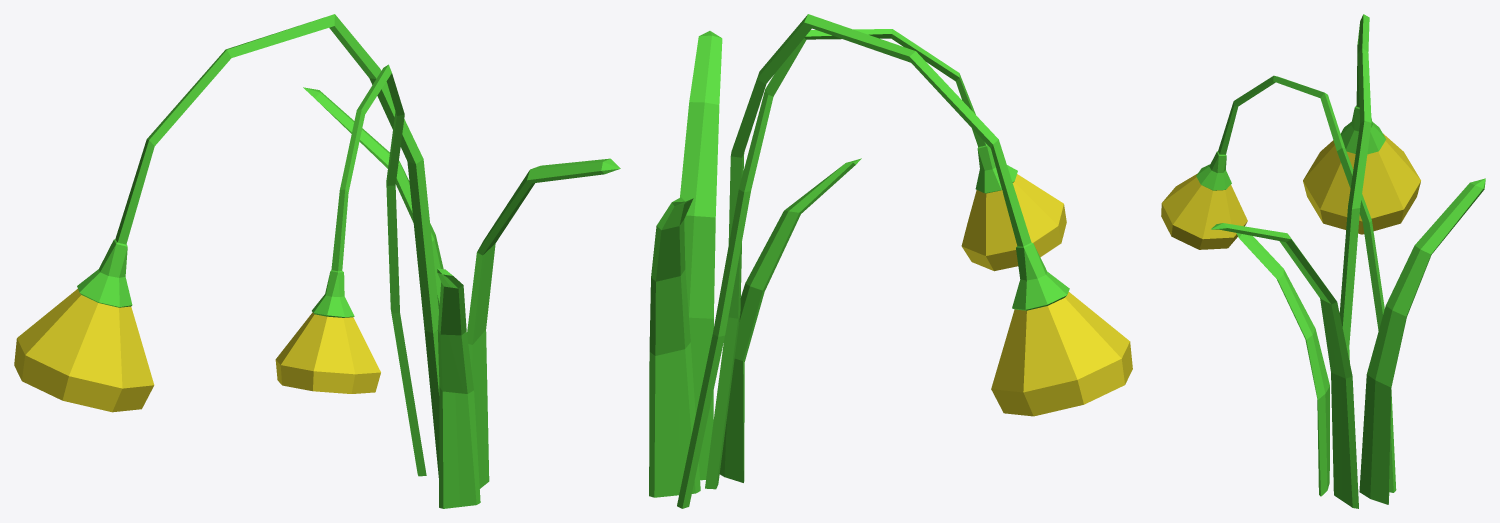
Rendered from Flower.fbx.
3 views of the same model, side by side, from view 1: azimuth 30°, elevation 25°; view 2: azimuth 150°, elevation 25°; view 3: azimuth 270°, elevation 25° (orthographic). The views are drawn at different scales.
Parts seen in each view (by area): view 1: Flower_4; view 2: Flower_4; view 3: Flower_4.
Part boxes in pixels (x1=…): Flower_4: x1=14, y1=14, x2=620, y2=508; Flower_4: x1=649, y1=14, x2=1132, y2=508; Flower_4: x1=1161, y1=14, x2=1485, y2=508.
Size of the model in its own units: 3731 by 3524 by 2581.
